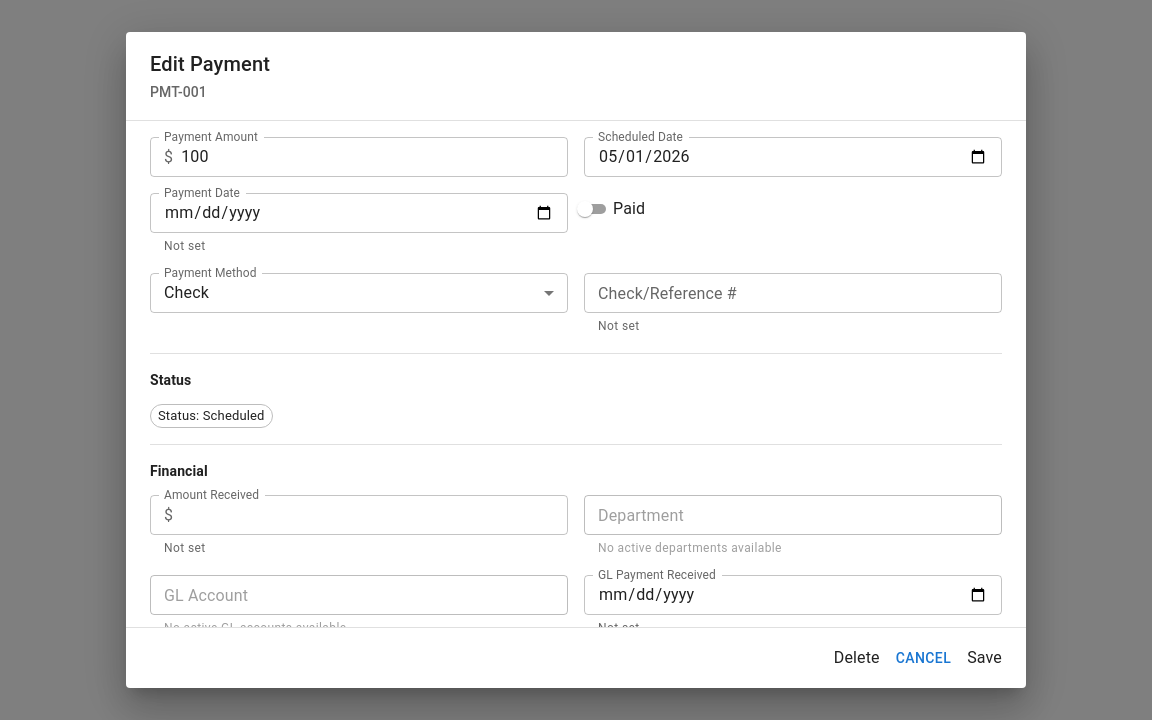
Test case: PaymentEditDialog › populates Payment Method select from useSchemaPicklist when schema resolves with active values
Press the mouse on the dropdown named "Payment Method" at [186, 293], box x1=164 y1=283 x2=209 y2=302
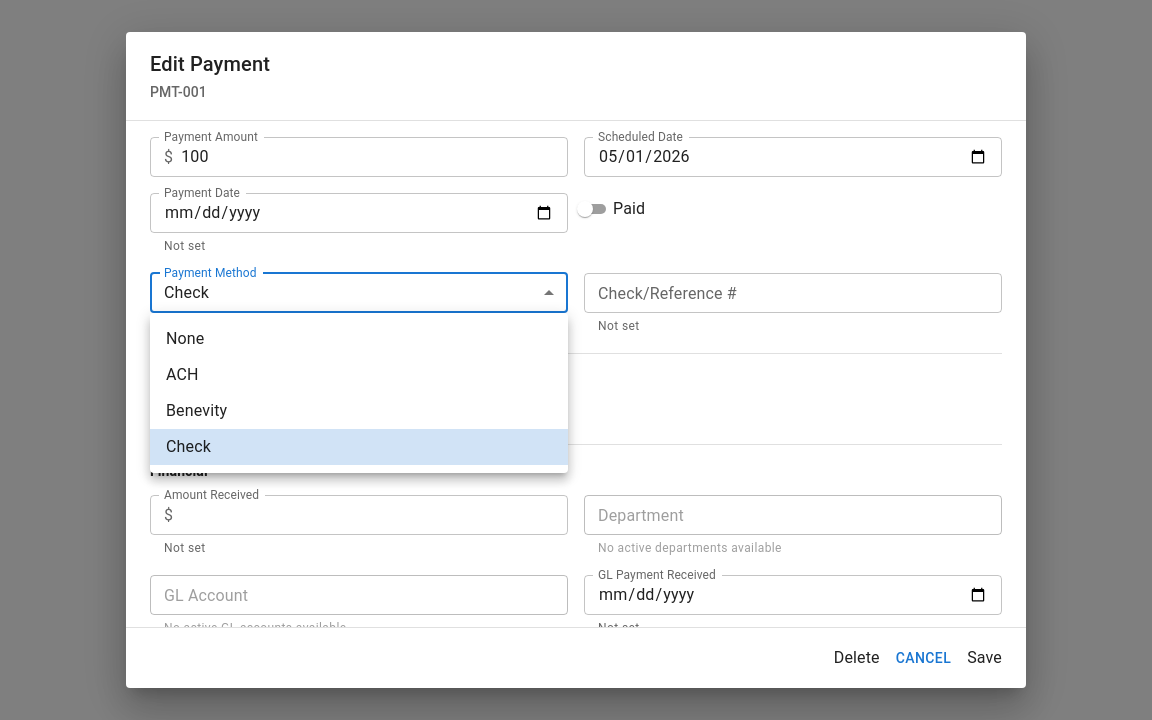
Check: the option "ACH" is shown, box x1=166 y1=365 x2=199 y2=384
Check: the option "Check" is shown, box x1=150 y1=429 x2=568 y2=465
Check: the option "Benevity" is shown, box x1=166 y1=401 x2=227 y2=420
